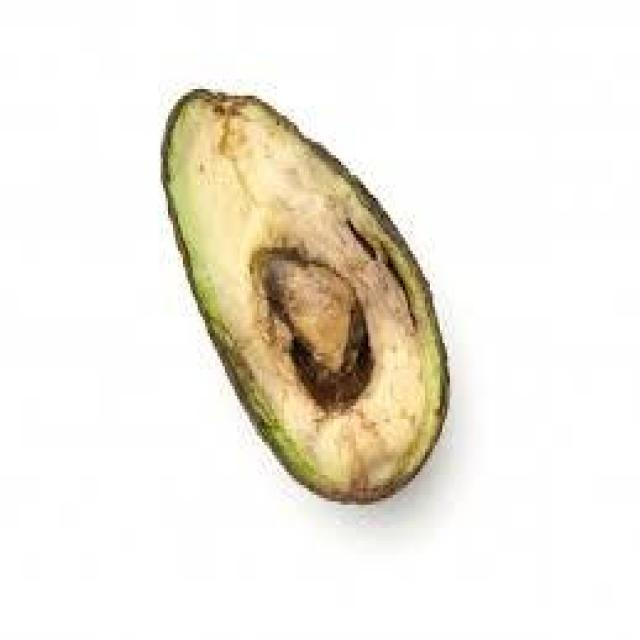organic: (161, 89, 452, 508)
